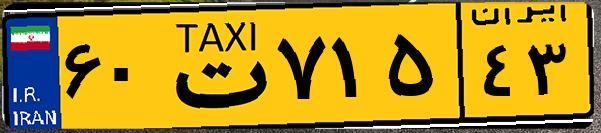0: (110, 28, 158, 98)
1: (330, 28, 385, 110)
3: (525, 38, 570, 115)
4: (475, 38, 525, 113)
5: (385, 28, 445, 110)
6: (57, 26, 110, 100)
7: (270, 28, 330, 110)
ت: (158, 12, 270, 120)
